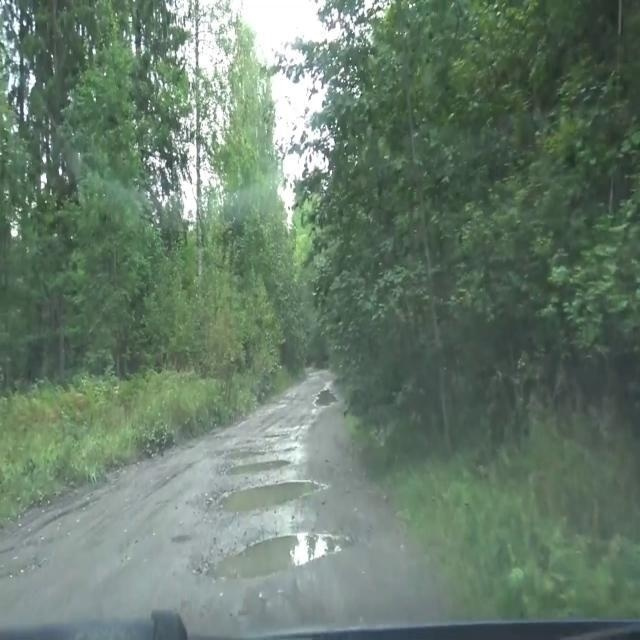pothole: (194, 526, 364, 590), (203, 477, 339, 515), (210, 452, 304, 480), (307, 368, 342, 422), (218, 440, 282, 462)
